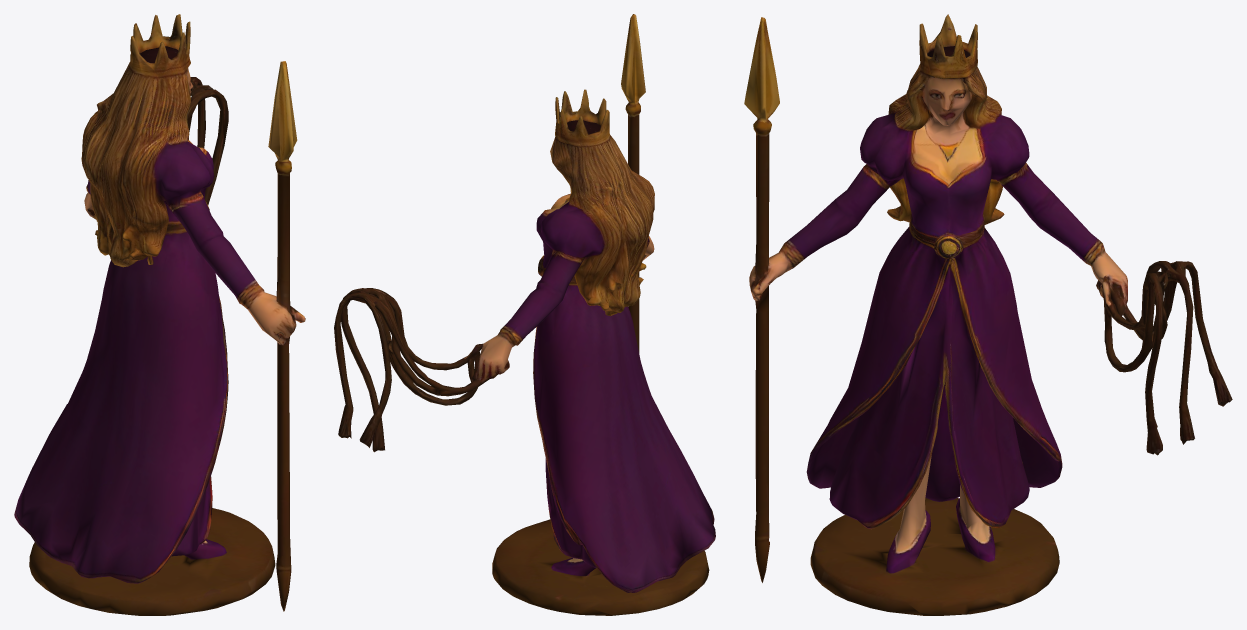
The picture shows the model from 3 angles, left to right: view 1: azimuth 30°, elevation 25°; view 2: azimuth 150°, elevation 25°; view 3: azimuth 270°, elevation 25°; orthographic projection. The views are drawn at different scales.
Visible parts, largest first — view 1: tripo_node_97710a43-aa06-440b-a0a7-7a2f19e06131; view 2: tripo_node_97710a43-aa06-440b-a0a7-7a2f19e06131; view 3: tripo_node_97710a43-aa06-440b-a0a7-7a2f19e06131.
Part boxes in pixels (x1,y1,x2,y2): tripo_node_97710a43-aa06-440b-a0a7-7a2f19e06131: (14,14,305,615); tripo_node_97710a43-aa06-440b-a0a7-7a2f19e06131: (334,14,715,615); tripo_node_97710a43-aa06-440b-a0a7-7a2f19e06131: (744,14,1232,615).
Size of the model in its own units: 0.5467 by 0.9998 by 0.7768.
1 material, 1 textured.
